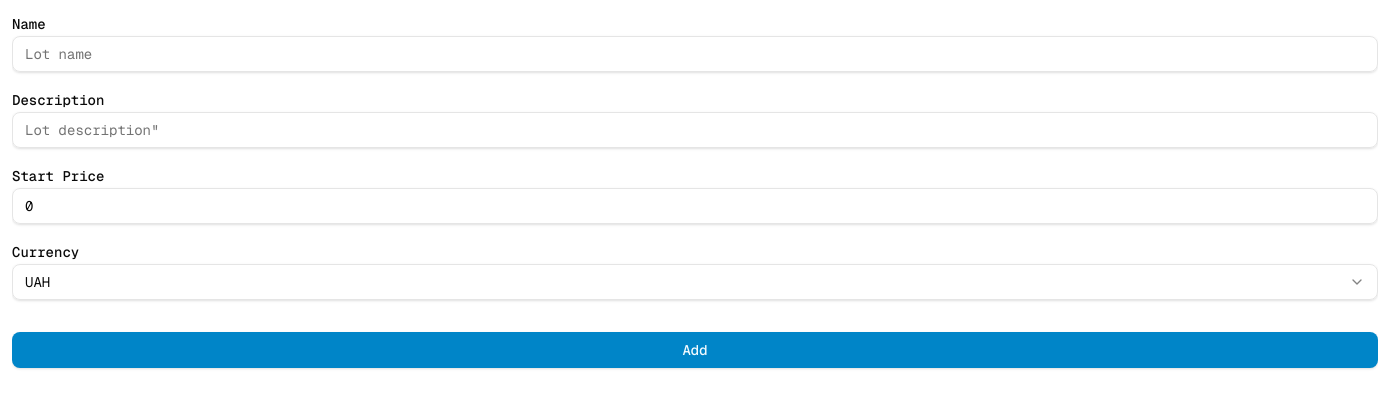
CreateLotForm › shows validation errors for empty required fields
Click the button "Add" at (695, 350), box [12,332,1378,368]
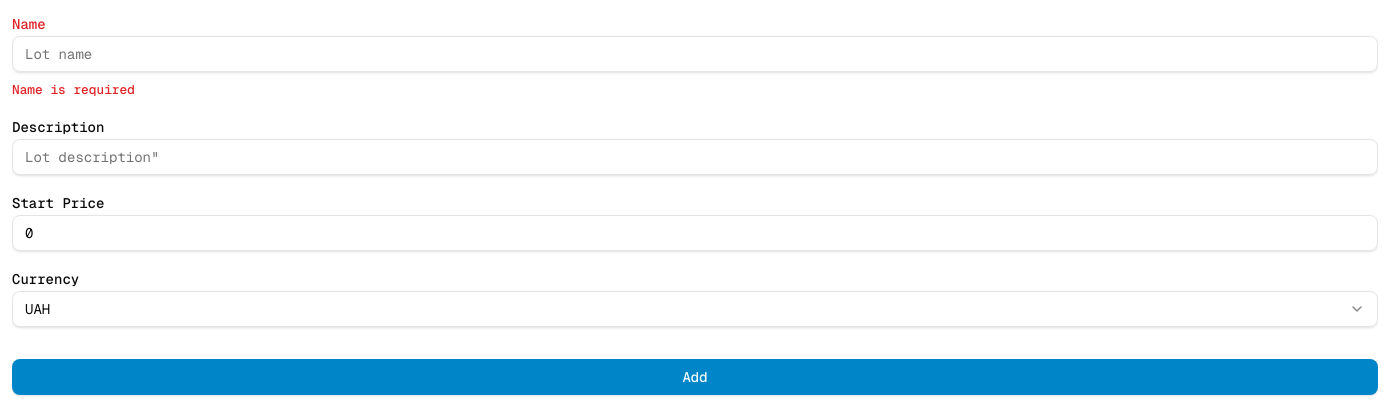
Expected: the text "Name is required" is shown, [12,81,135,98]
